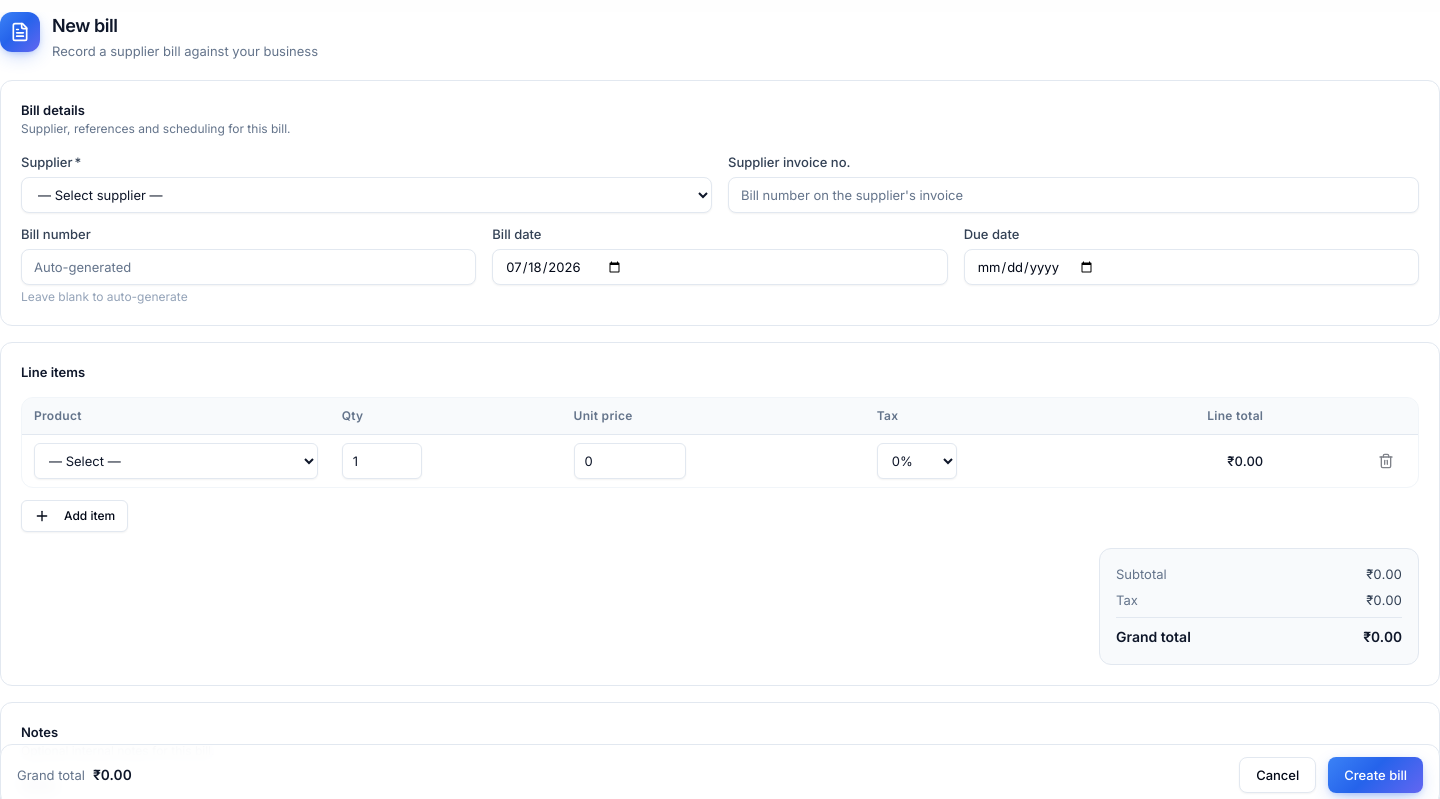
BillForm › surfaces a server error and does not navigate
Step 1. Select "Acme Supply" in the dropdown labelled "Supplier" → (366, 195), box [21,177,712,213]
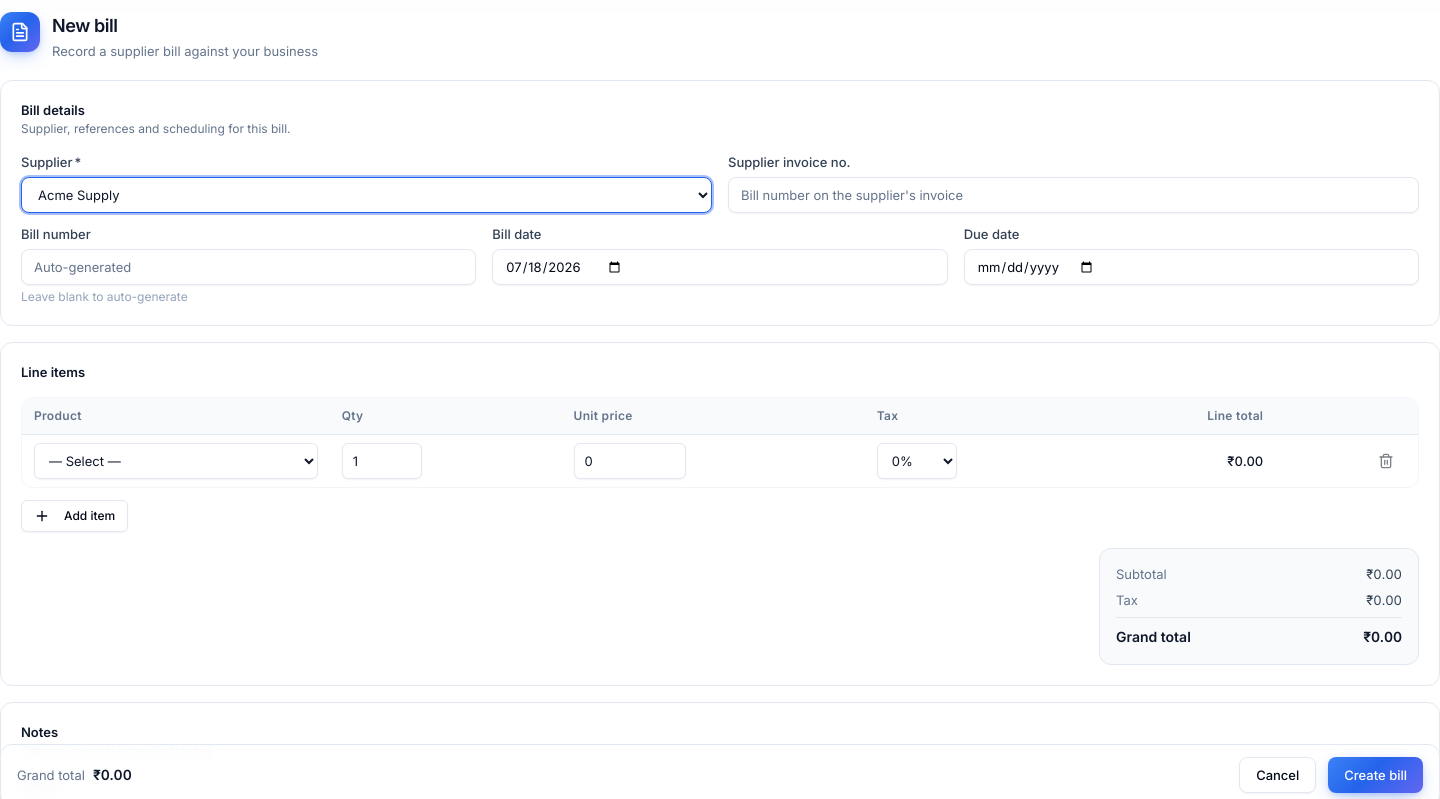
Step 2. Select "Widget" in the dropdown named "Product for line 1" → (176, 460), box [34,442,318,478]
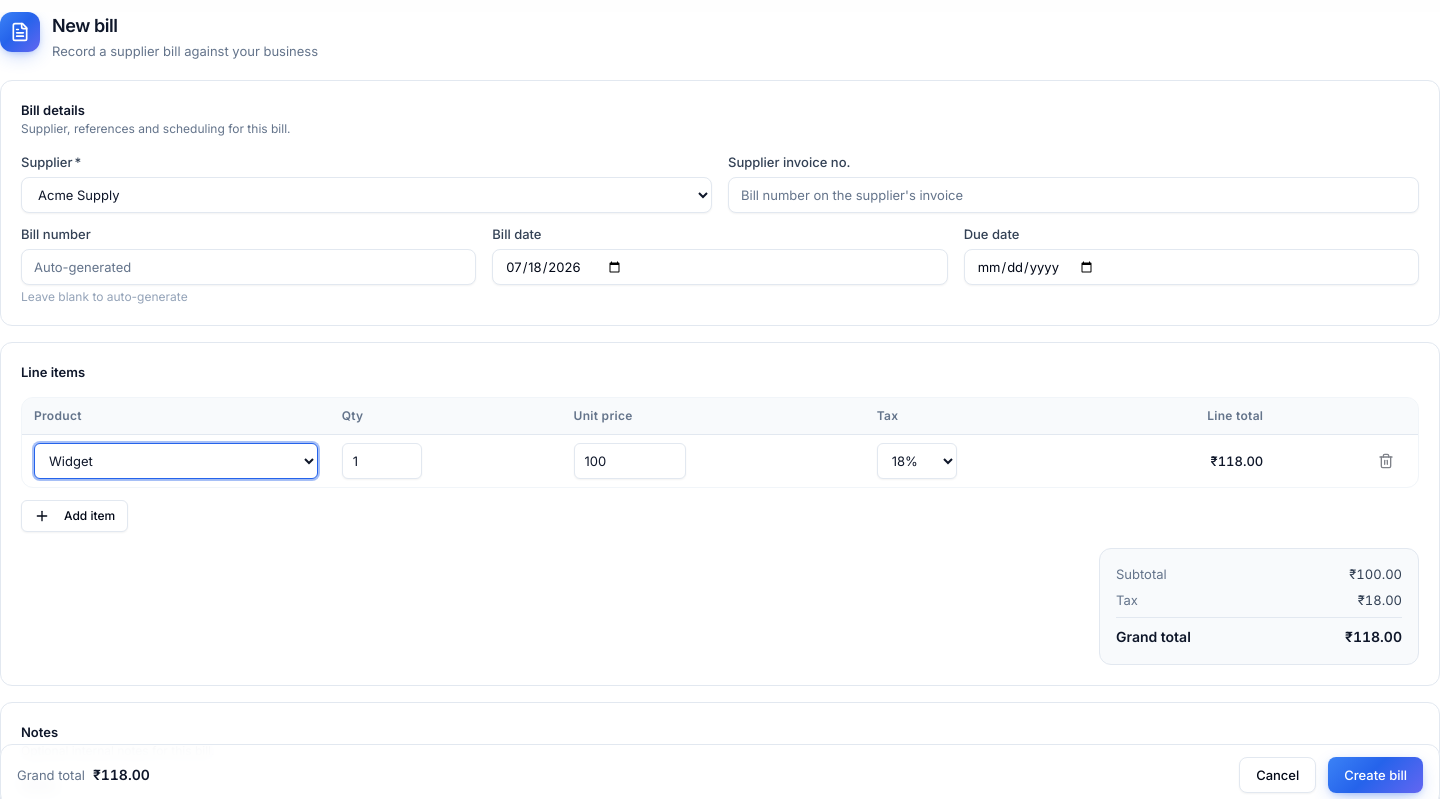
Step 3. Click the button "Create bill" → (1376, 775), box [1328,757,1423,793]
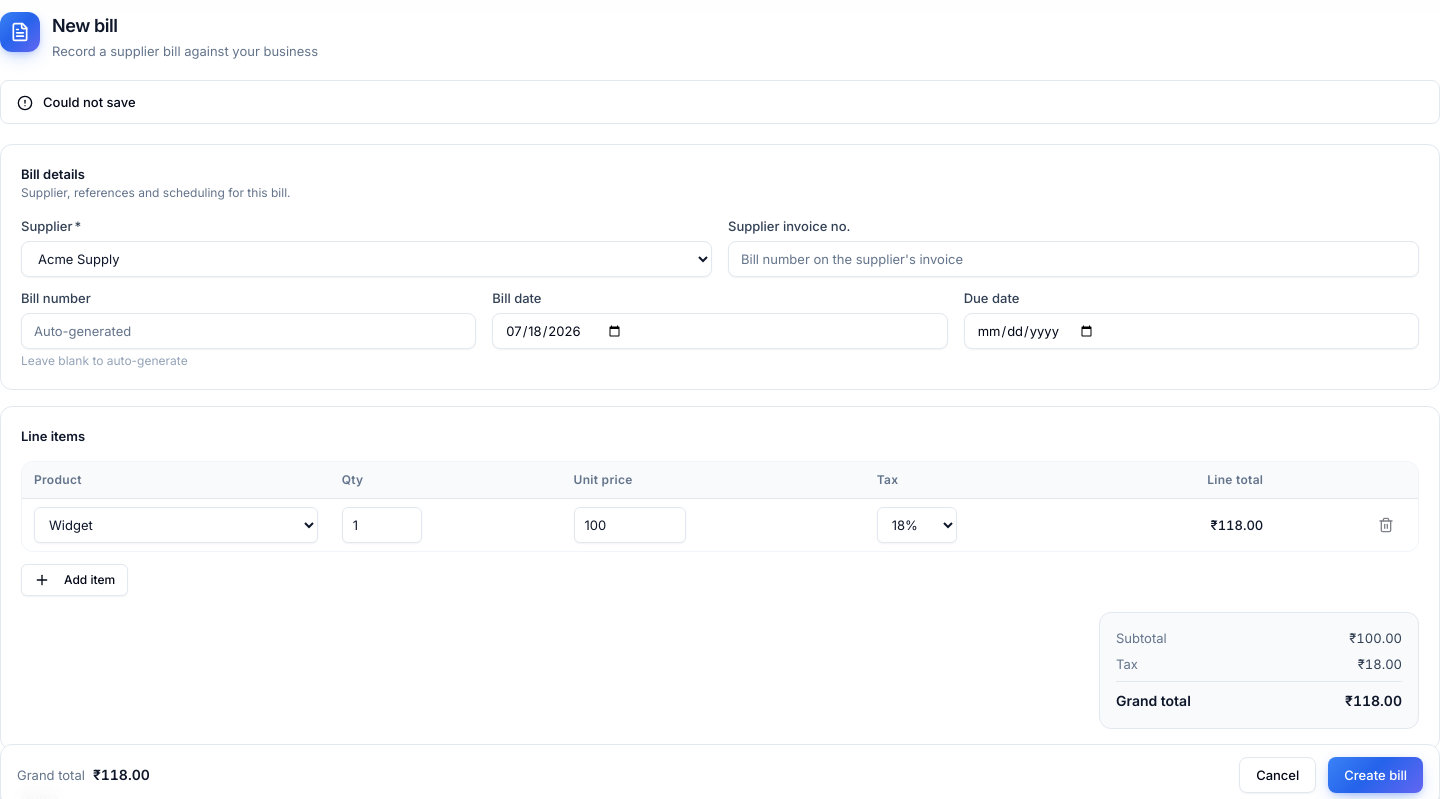
Expected: the text "Could not save" is shown, [43,93,136,111]
